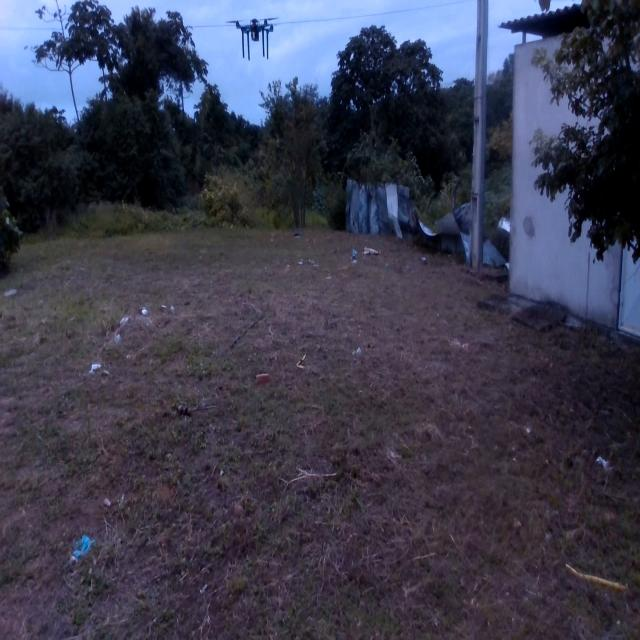-uav-: (224, 12, 288, 70)
